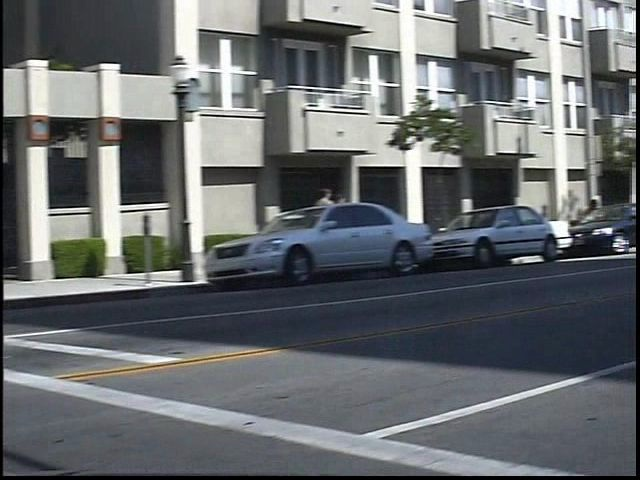person: (328, 182, 352, 256), (346, 189, 366, 251)
